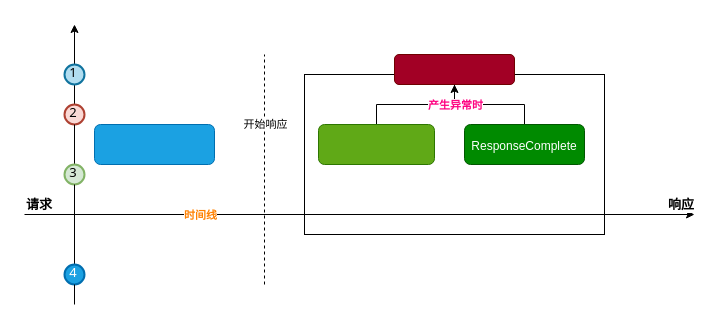
This 720x323 diagram has some shape labels left out. The box of each missing label's shape, as (x1, y1, x2, y2) in pixels:
Panic: (394, 54, 514, 84)
RequestReceived: (94, 124, 214, 164)
ResponseStarted: (318, 124, 434, 164)
